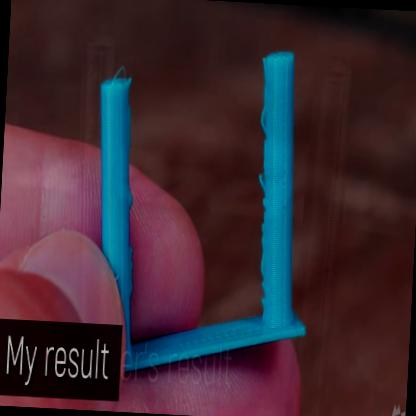fail: (260, 99, 270, 135), (256, 170, 268, 197)
